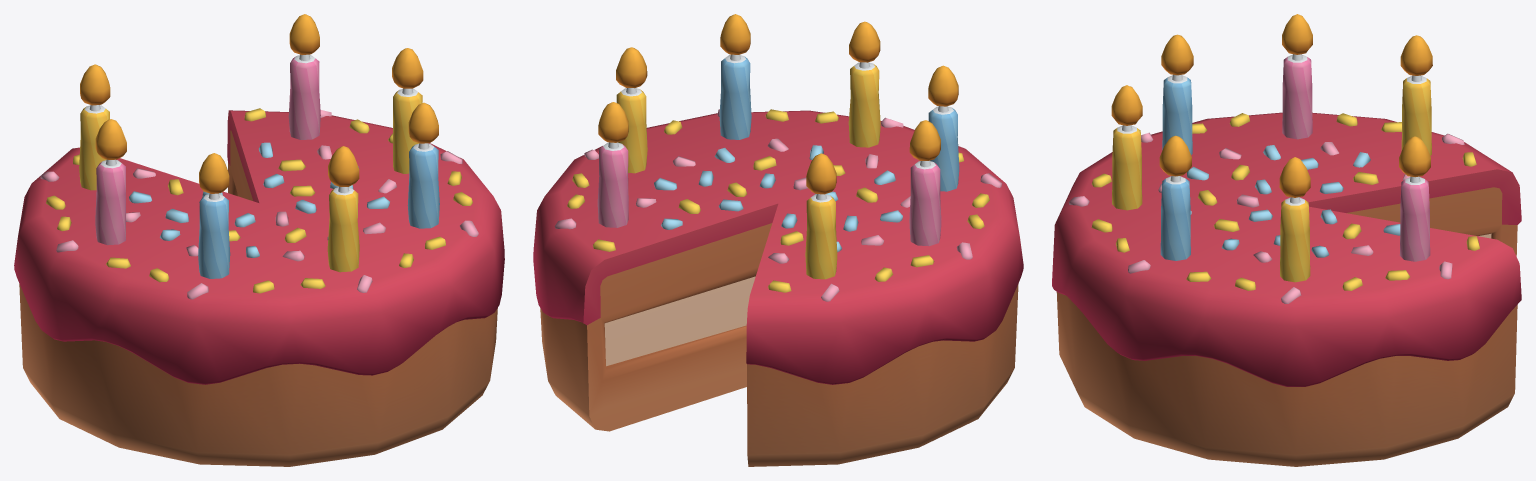
File: cake_birthday_cut.gltf
3 views of the same model, side by side, from view 1: azimuth 30°, elevation 25°; view 2: azimuth 150°, elevation 25°; view 3: azimuth 270°, elevation 25° (orthographic).
Visible parts, largest first — view 1: cake_birthday_cut, cake_birthday_cut_candle_fire; view 2: cake_birthday_cut, cake_birthday_cut_candle_fire; view 3: cake_birthday_cut, cake_birthday_cut_candle_fire.
Part boxes in pixels (x1,y1,x2,y2): cake_birthday_cut: [14, 54, 504, 466]; cake_birthday_cut_candle_fire: [80, 14, 438, 193]; cake_birthday_cut: [533, 54, 1023, 466]; cake_birthday_cut_candle_fire: [598, 14, 958, 194]; cake_birthday_cut: [1052, 54, 1521, 466]; cake_birthday_cut_candle_fire: [1111, 14, 1432, 197].
Size of the model in its own units: 1.22 by 0.8021 by 1.17.
1 material, 1 textured.
